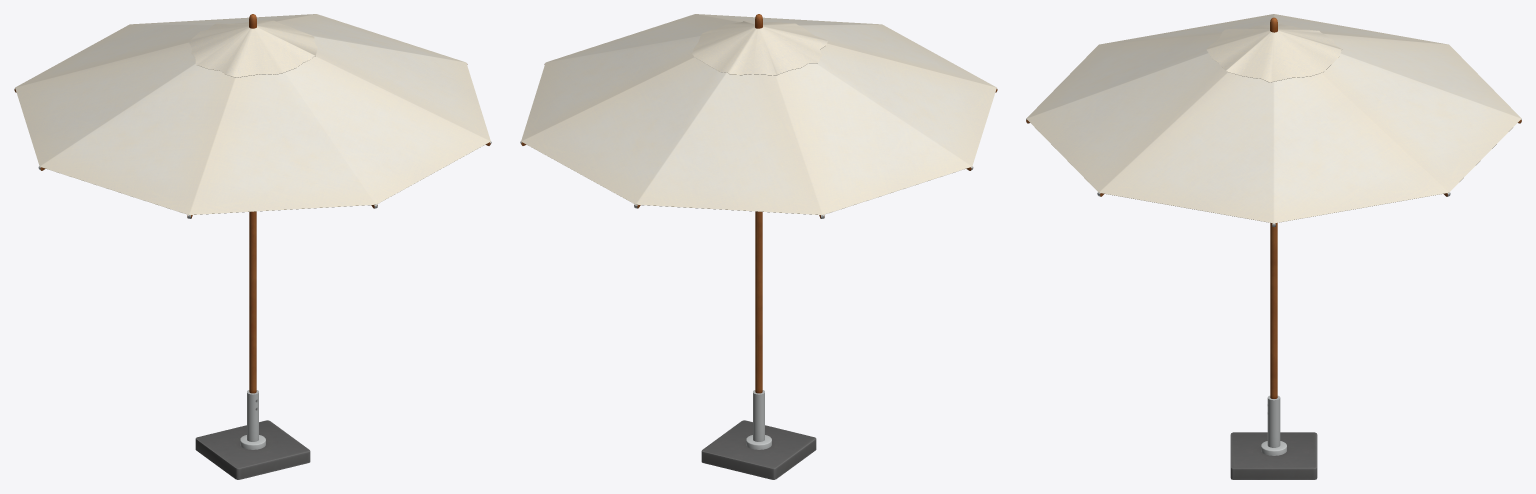
The model's file is PoolBambrella01.FBX.
The picture shows the model from 3 angles, left to right: view 1: azimuth 30°, elevation 25°; view 2: azimuth 150°, elevation 25°; view 3: azimuth 270°, elevation 25°; orthographic projection.
Visible parts, largest first — view 1: PoolBambrella01; view 2: PoolBambrella01; view 3: PoolBambrella01.
Boxes of the visible parts, x1,y1,x2,y2 form: PoolBambrella01: (14, 14, 491, 479); PoolBambrella01: (520, 14, 997, 479); PoolBambrella01: (1026, 14, 1521, 479).
Size of what is drawn, in the model's own units: 3 by 2.96 by 3.
